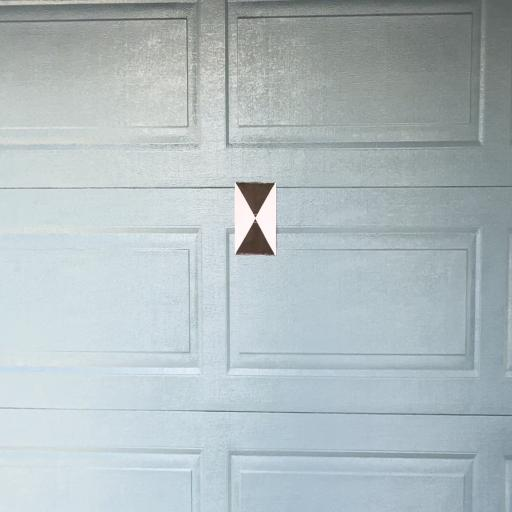target: (235, 182, 277, 255)
